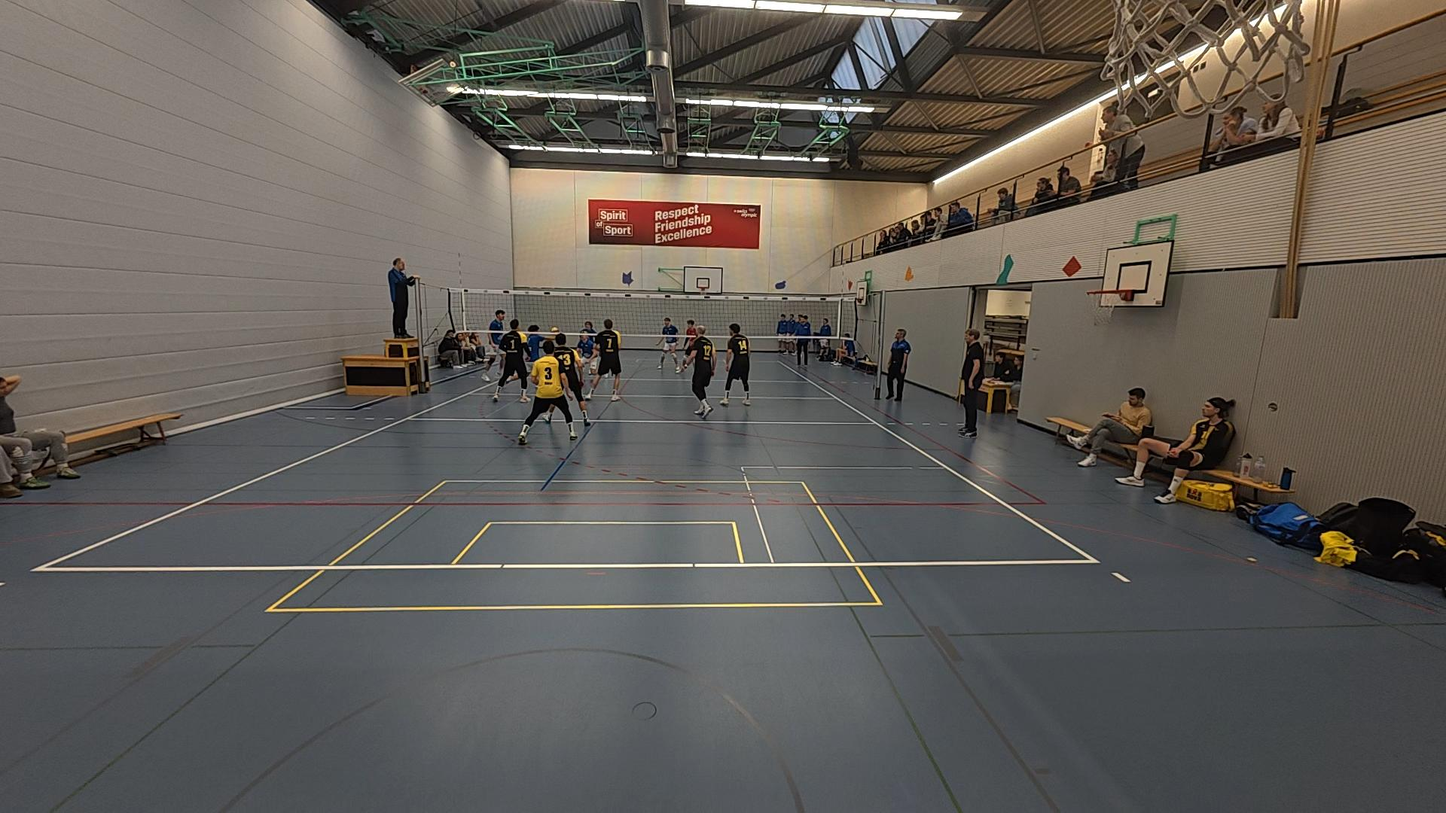Dig: (506, 319, 556, 389)
Player: (517, 344, 582, 446), (491, 320, 532, 403), (559, 335, 593, 424), (688, 323, 718, 419), (718, 324, 752, 407), (592, 320, 624, 401), (478, 307, 510, 383), (572, 327, 600, 387), (656, 315, 682, 373), (675, 318, 700, 377), (579, 314, 601, 375)
ball: (550, 326, 559, 334)
